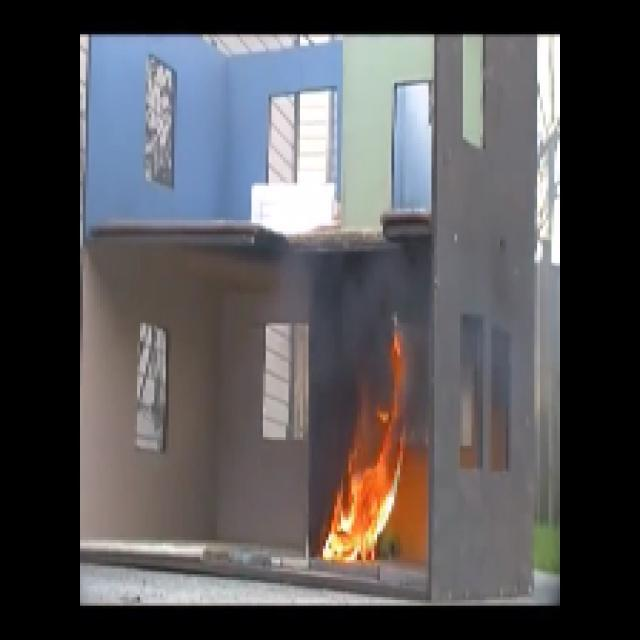Fire: (326, 449, 400, 558)
Smoke: (313, 253, 417, 327), (311, 326, 382, 418)
